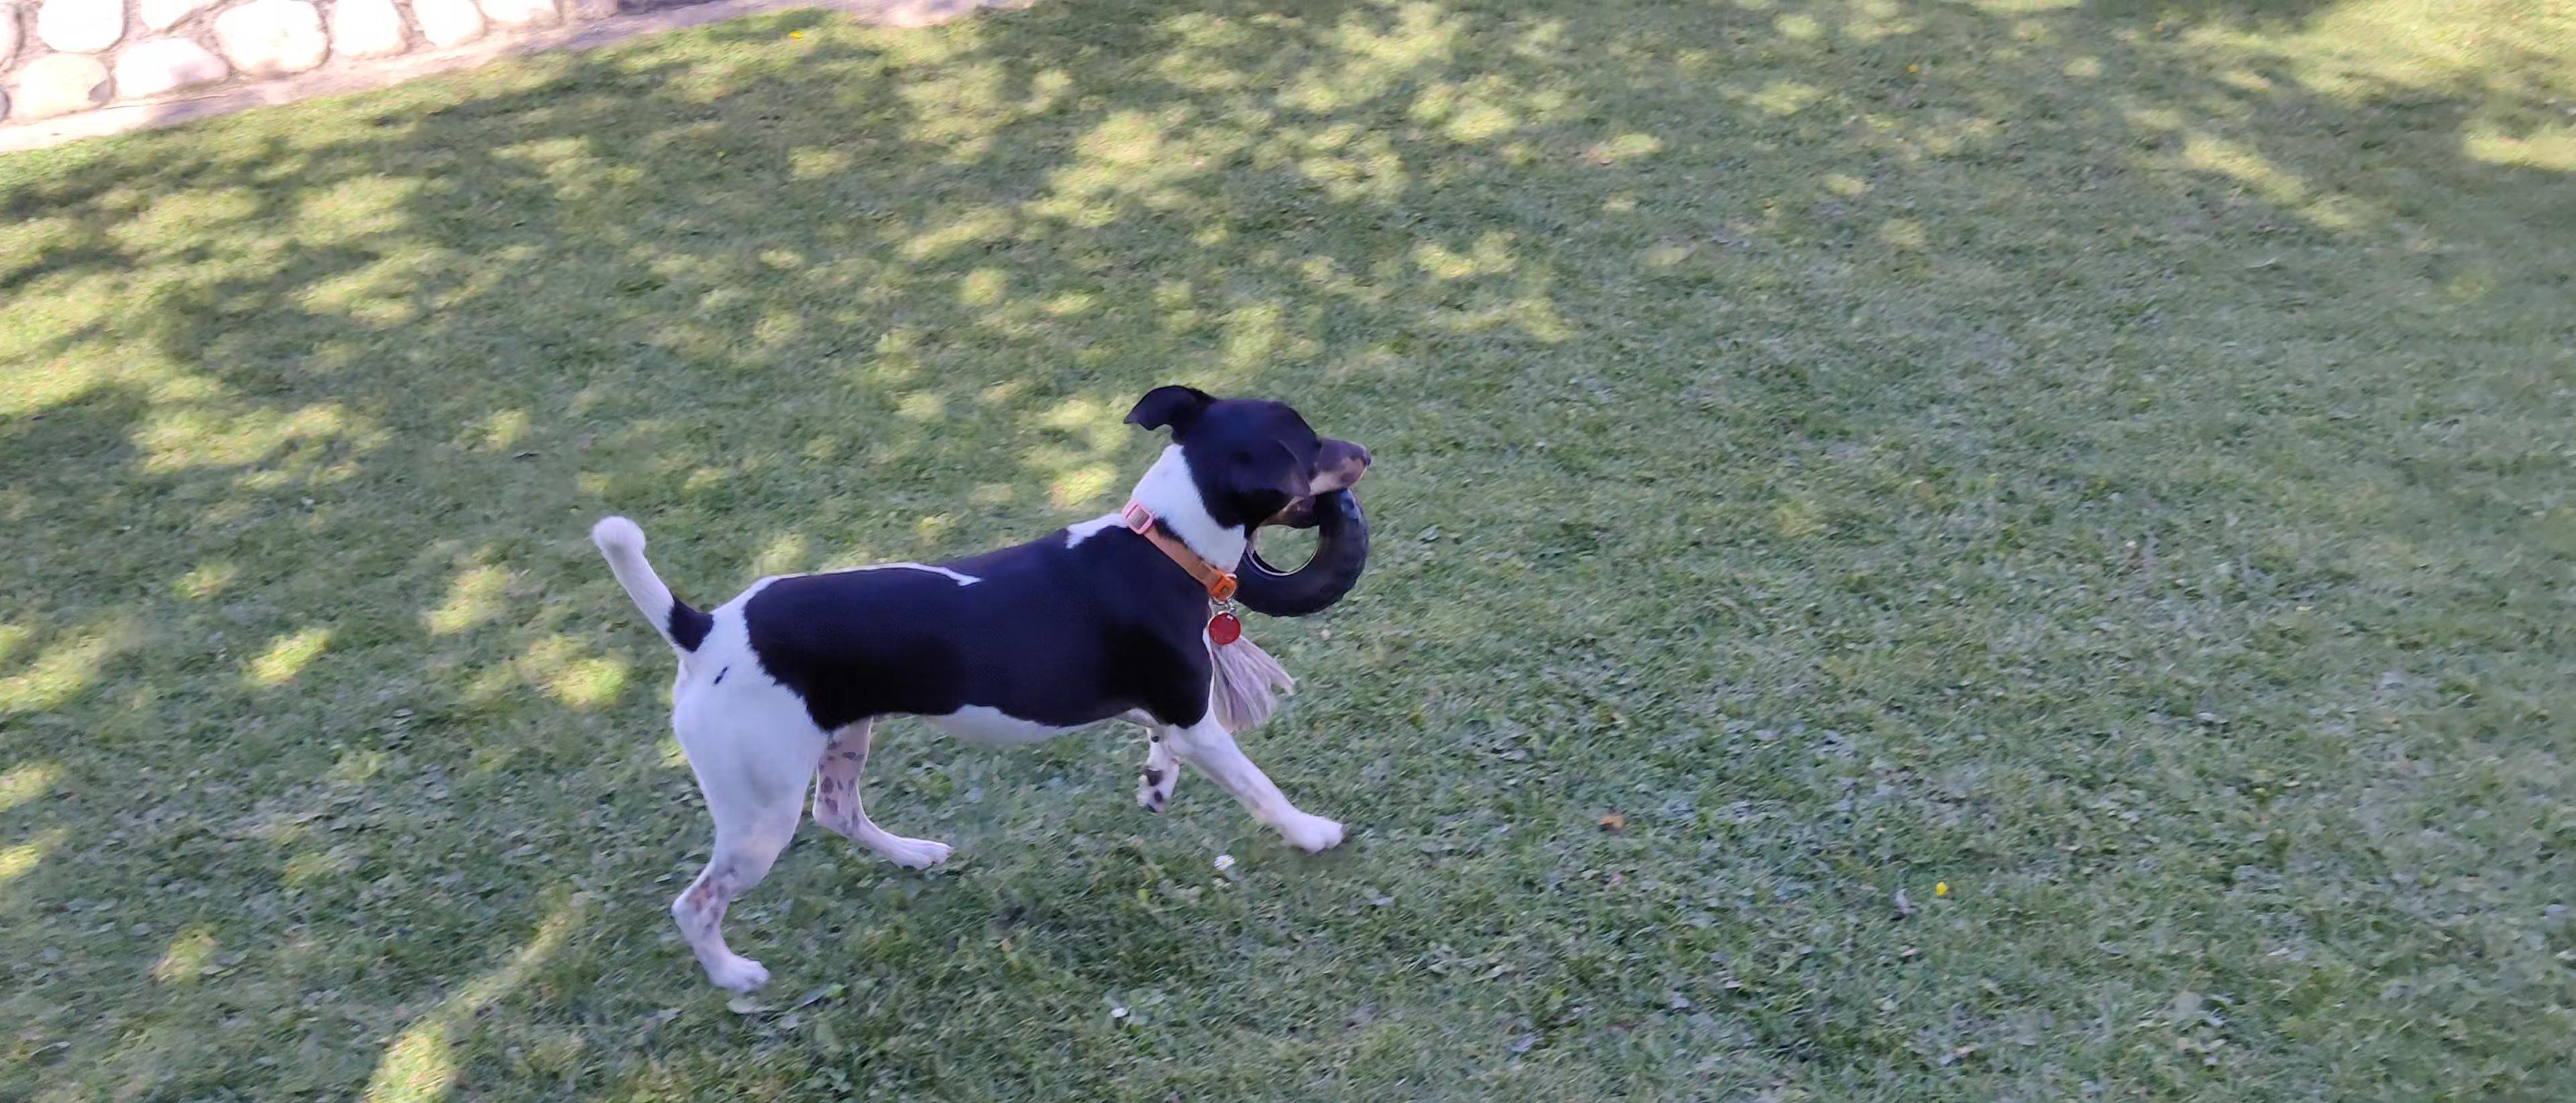Dog: (590, 375, 1393, 1011)
